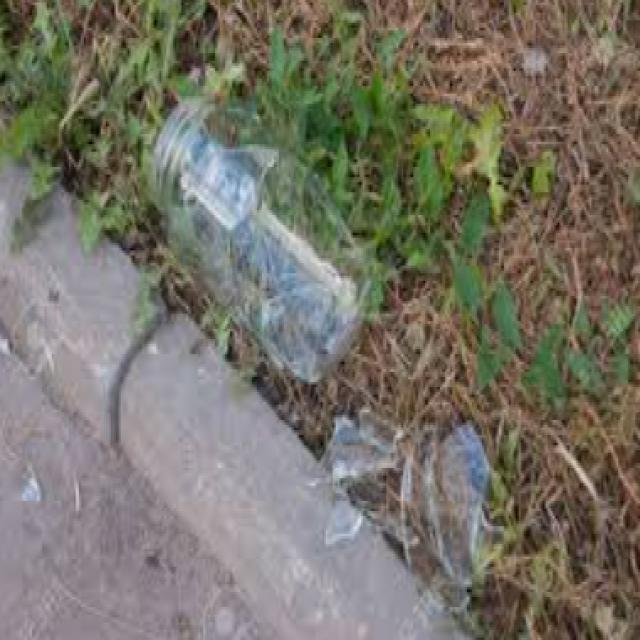PecahanKaca: (143, 93, 371, 384), (324, 402, 496, 628)
